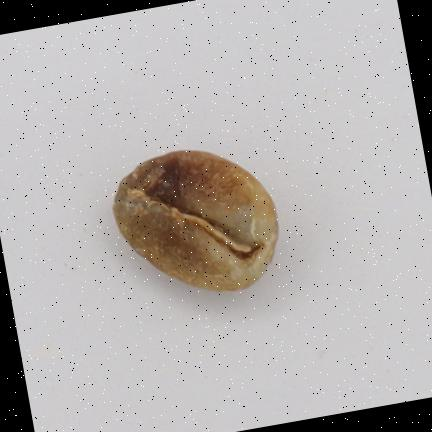partial-black: (113, 150, 278, 290)
